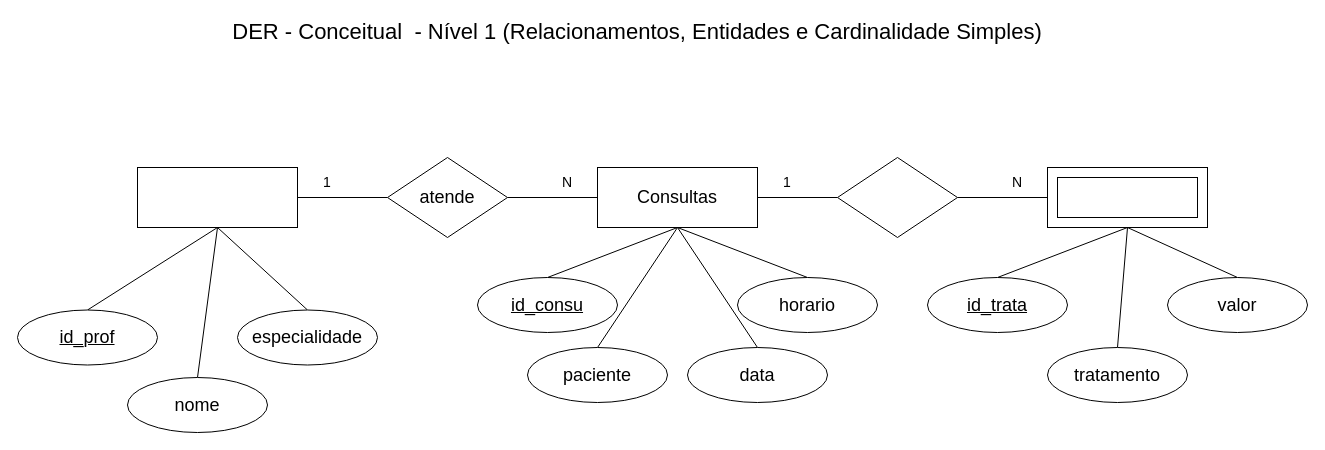
Image size: 1325x450. Some labels were removed from this diagram. The centre of each missing label's shape, as x and y in pixels:
"faz" goes at pixel 897 197.
"Profissionais" goes at pixel 217 197.
"Tratamentos" goes at pixel 1127 197.
